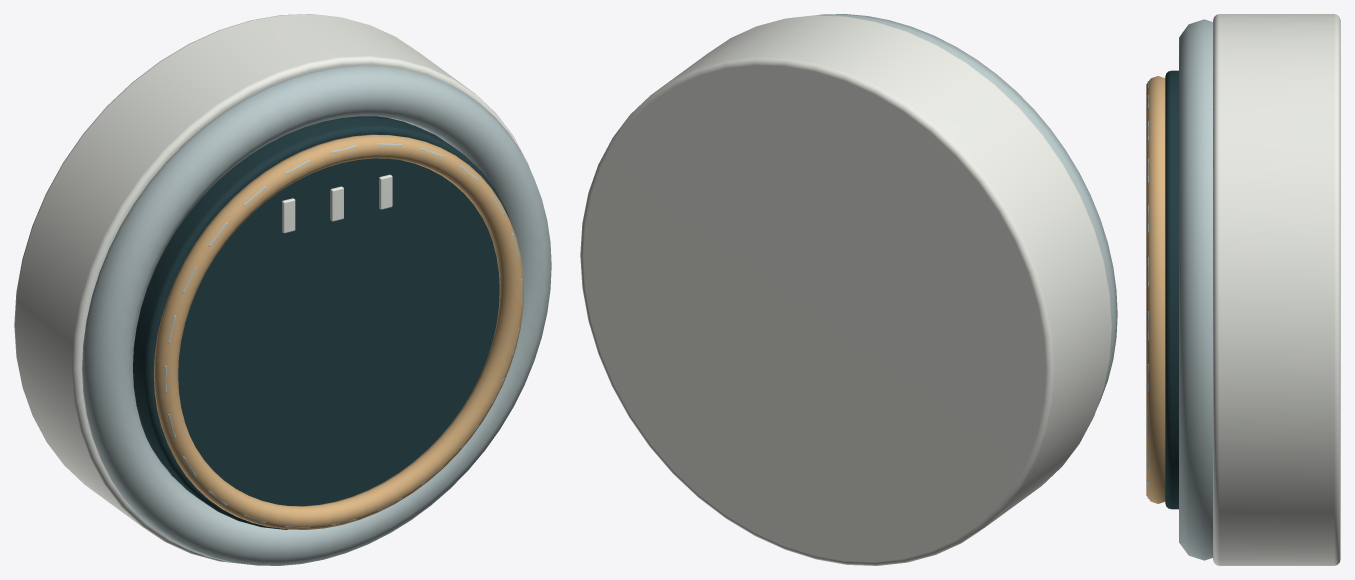
Rendered from lens-cache.glb.
The picture shows the model from 3 angles, left to right: view 1: azimuth 30°, elevation 25°; view 2: azimuth 150°, elevation 25°; view 3: azimuth 270°, elevation 25°; orthographic projection.
Parts seen in each view (by area): view 1: Opaque lens cover, Chamfered aperture, Inset housing, SearchRing; view 2: Inset housing, Chamfered aperture; view 3: Inset housing, Chamfered aperture, SearchRing, Opaque lens cover.
Boxes of the visible parts, box(x1,y1,x2,y2) form: Opaque lens cover: box(133, 116, 512, 529); Chamfered aperture: box(82, 65, 551, 565); Inset housing: box(14, 14, 529, 564); SearchRing: box(153, 134, 523, 529); Inset housing: box(580, 15, 1112, 565); Chamfered aperture: box(817, 14, 1117, 407); Inset housing: box(1213, 14, 1340, 565); Chamfered aperture: box(1179, 19, 1212, 560); SearchRing: box(1146, 76, 1165, 503); Opaque lens cover: box(1165, 70, 1178, 509).
Size of the model in its own units: 1.56 by 1.56 by 0.5483.
